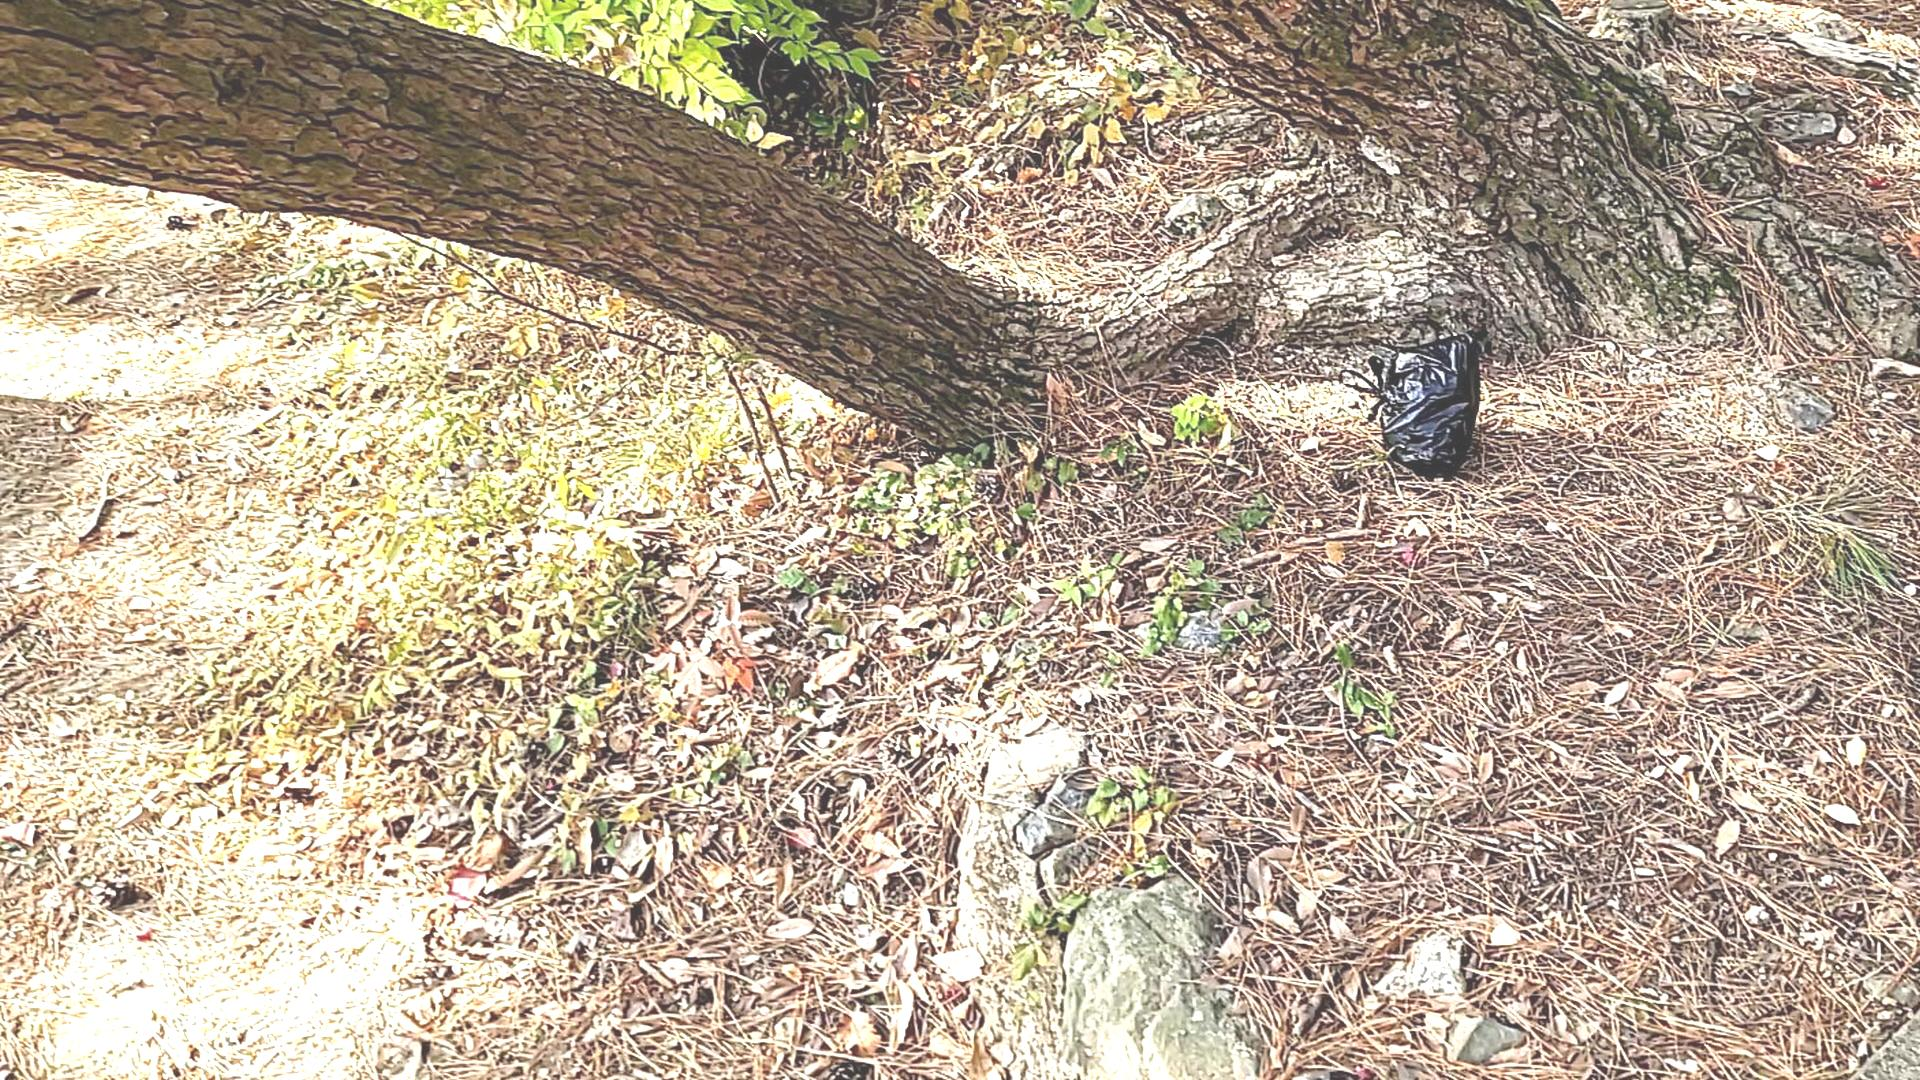black_bag: (1360, 326, 1487, 488)
